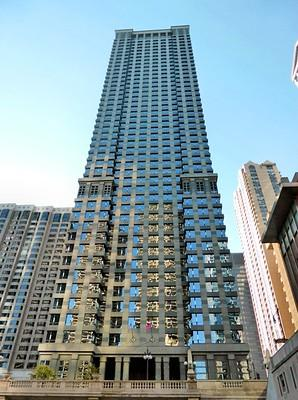building: (34, 20, 256, 381)
